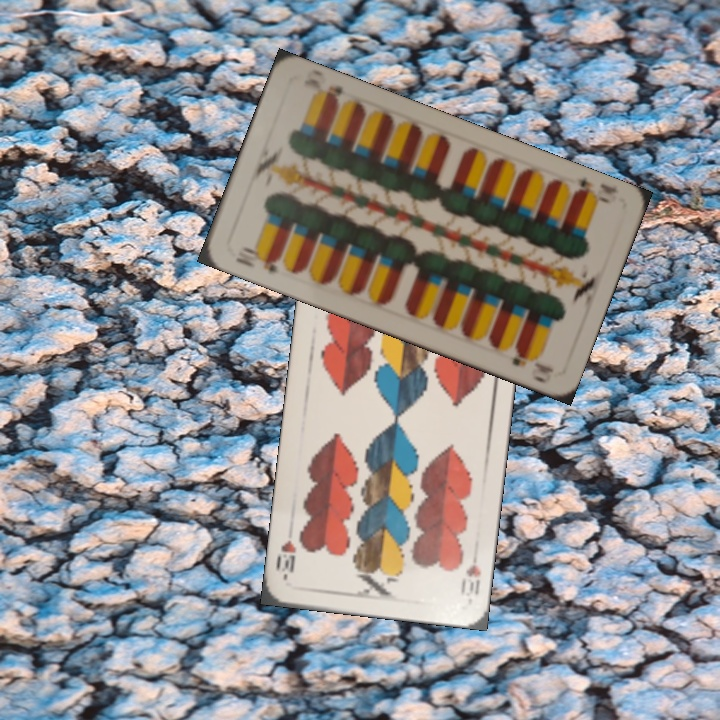E10: (566, 173, 619, 206), (231, 243, 282, 276)
H10: (456, 560, 483, 599)
